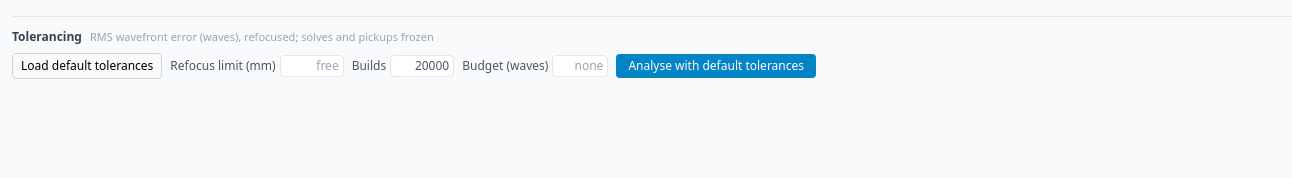
LensTolerancePanel › loads the default tolerances into an editable table
Click the button "Load default tolerances" at x=87, y=66, box top-left (12, 53), bottom-right (162, 79)
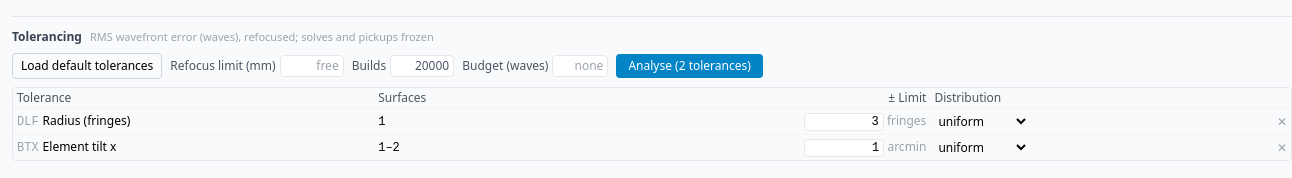
expect the table named "Tolerances" is shown: met, box top-left (13, 88), bottom-right (1291, 160)
expect the field named "BTX surface 1 limit" holds "1": met, box top-left (804, 138), bottom-right (884, 156)
expect the button "Analyse (2 tolerances)" is shown: met, box top-left (616, 54), bottom-right (763, 78)
